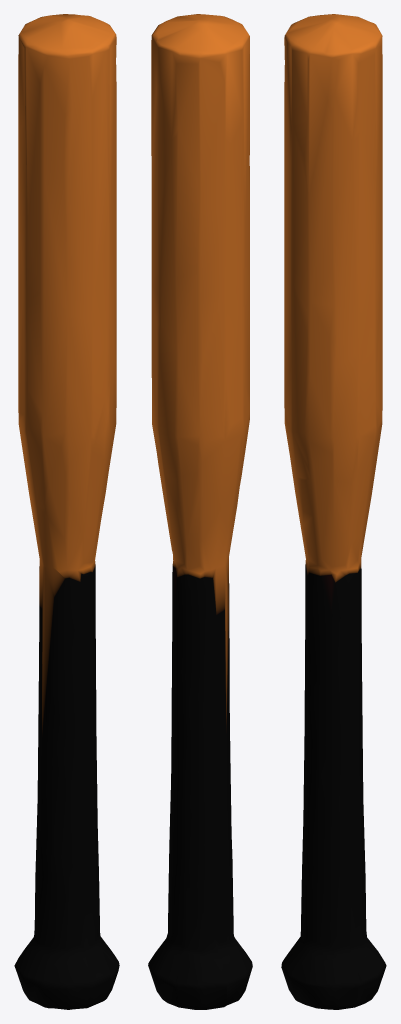
The model's file is gen3d-baseball-bat-lod1.glb.
3 views of the same model, side by side, from view 1: azimuth 90°, elevation 25°; view 2: azimuth 210°, elevation 25°; view 3: azimuth 270°, elevation 25° (orthographic).
Parts seen in each view (by area): view 1: part_0; view 2: part_0; view 3: part_0.
Boxes of the visible parts, x1,y1,x2,y2 form: part_0: (14, 14, 119, 1009); part_0: (148, 14, 252, 1009); part_0: (281, 14, 386, 1009).
Bounding box in the file's own units: 0.097 × 1 × 0.097.
